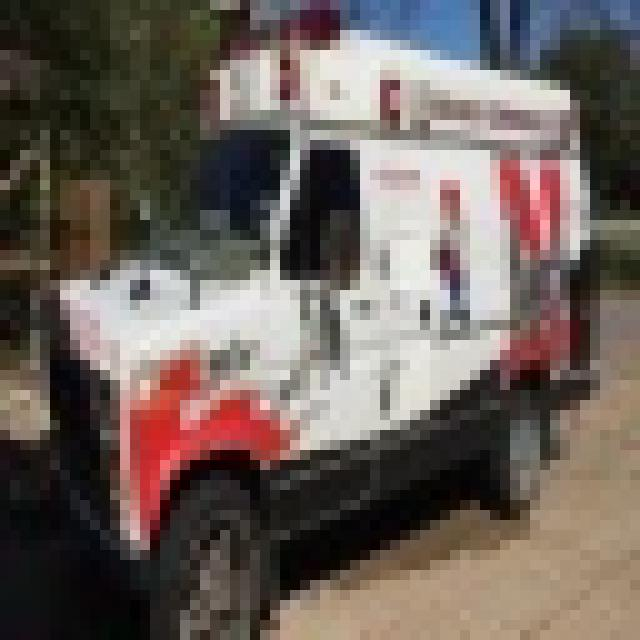Ambulance: (30, 0, 600, 630)
